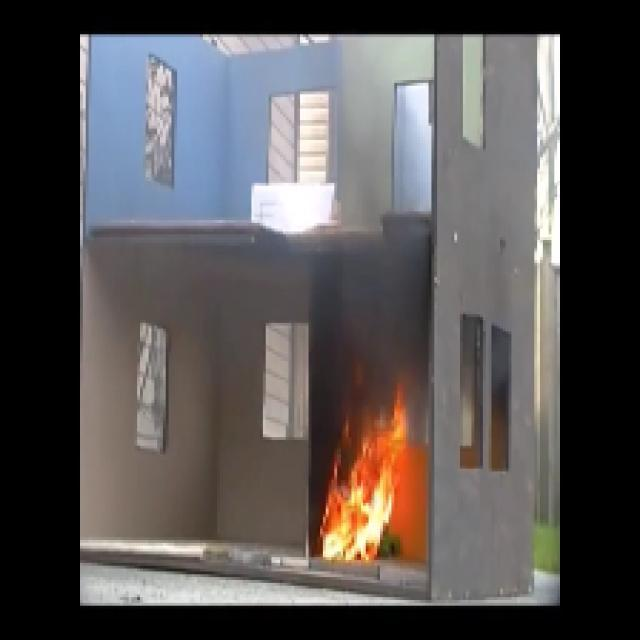Fire: (331, 414, 388, 558)
Smoke: (327, 257, 403, 350)
